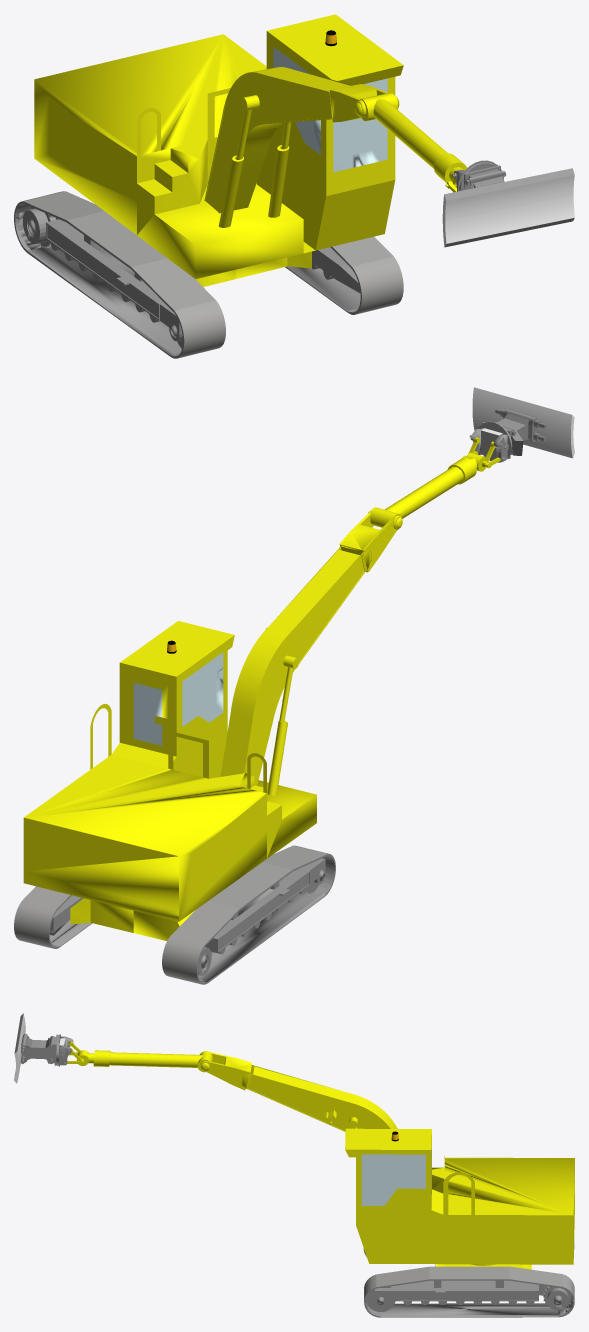
Rendered from PipeCrane_B.fbx.
3 renders of one model, top to bottom at view 1: azimuth 30°, elevation 25°; view 2: azimuth 150°, elevation 25°; view 3: azimuth 270°, elevation 25°, orthographic. The views are drawn at different scales.
Visible parts, largest first — view 1: Body, RightTrack, UpperArm, LowerPipeAssembly, LeftTrack, LowerArm, PistonHousings, Base, Pistons, UpperPipeAssembly; view 2: Body, UpperArm, RightTrack, LowerPipeAssembly, LeftTrack, Base, LowerArm, UpperPipeAssembly, PistonHousings; view 3: Body, LeftTrack, UpperArm, LowerArm, LowerPipeAssembly, UpperPipeAssembly.
Part boxes in pixels (x1,y1,x2,y2): Body: (34,14,403,279); RightTrack: (14,191,225,358); UpperArm: (204,67,399,213); LowerPipeAssembly: (442,165,574,247); LeftTrack: (285,236,403,314); LowerArm: (360,92,467,187); PistonHousings: (218,145,289,227); Base: (196,251,311,286); Pistons: (236,95,291,159); UpperPipeAssembly: (445,160,503,192); Body: (23,621,316,921); UpperArm: (220,510,402,785); RightTrack: (162,845,335,984); LowerPipeAssembly: (472,387,574,458); LeftTrack: (14,886,92,948); Base: (70,898,195,940); LowerArm: (370,452,485,530); UpperPipeAssembly: (462,421,512,468); PistonHousings: (267,720,287,795); Body: (345,1128,574,1264); LeftTrack: (364,1266,574,1317); UpperArm: (200,1052,397,1131); LowerArm: (76,1050,212,1072); LowerPipeAssembly: (14,1013,57,1083); UpperPipeAssembly: (56,1034,84,1066).
Bounding box in the file's own units: 303 × 464 × 1008.
